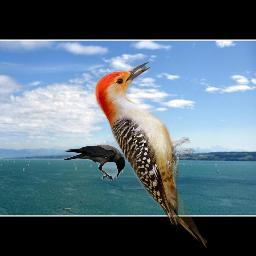Crow: (62, 144, 125, 181)
Woodpecker: (94, 61, 207, 250)
